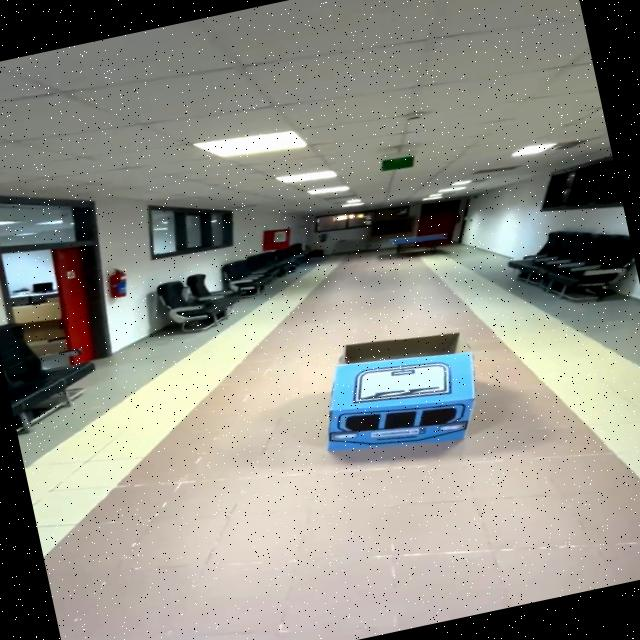blue_car: (255, 296, 532, 488)
